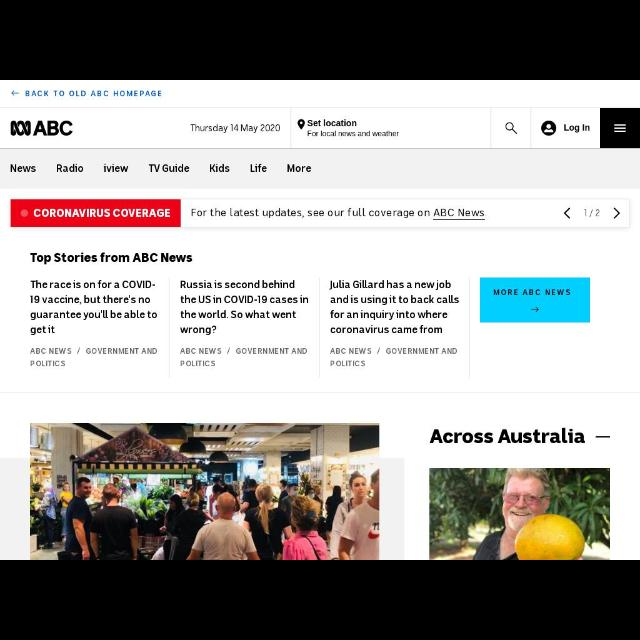button: (600, 108, 640, 148), (491, 108, 531, 148)
icon: (542, 120, 556, 136), (506, 122, 518, 134), (614, 124, 626, 132), (297, 120, 305, 130), (564, 208, 570, 218), (614, 208, 620, 218), (21, 210, 29, 217), (11, 90, 19, 96), (531, 308, 539, 312)
image: (31, 423, 380, 559), (430, 468, 610, 560), (11, 120, 73, 136)
multitab: (11, 164, 312, 173)
panel: (10, 200, 630, 228)
text: (180, 281, 308, 335), (31, 281, 158, 335), (329, 281, 459, 333), (192, 209, 486, 221), (331, 348, 457, 368), (430, 430, 610, 444), (181, 348, 307, 367), (31, 348, 157, 366), (30, 253, 192, 265), (34, 209, 170, 217), (26, 90, 162, 96), (192, 125, 280, 134), (307, 131, 398, 137), (494, 289, 570, 295), (149, 164, 189, 172), (308, 120, 357, 126), (564, 125, 590, 133), (10, 165, 36, 173), (57, 164, 83, 172), (104, 164, 128, 172), (287, 164, 311, 172), (210, 164, 230, 172), (251, 164, 267, 172), (584, 210, 600, 217)
textbutton: (480, 277, 590, 323), (530, 109, 600, 149)
toolbar: (1, 109, 640, 149)
